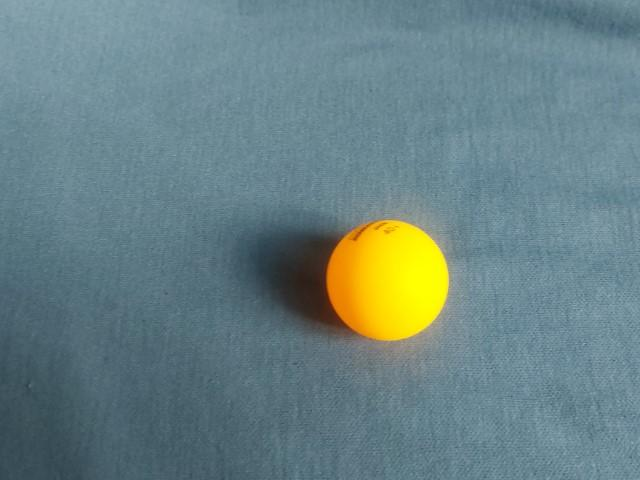oball: (315, 215, 457, 350)
